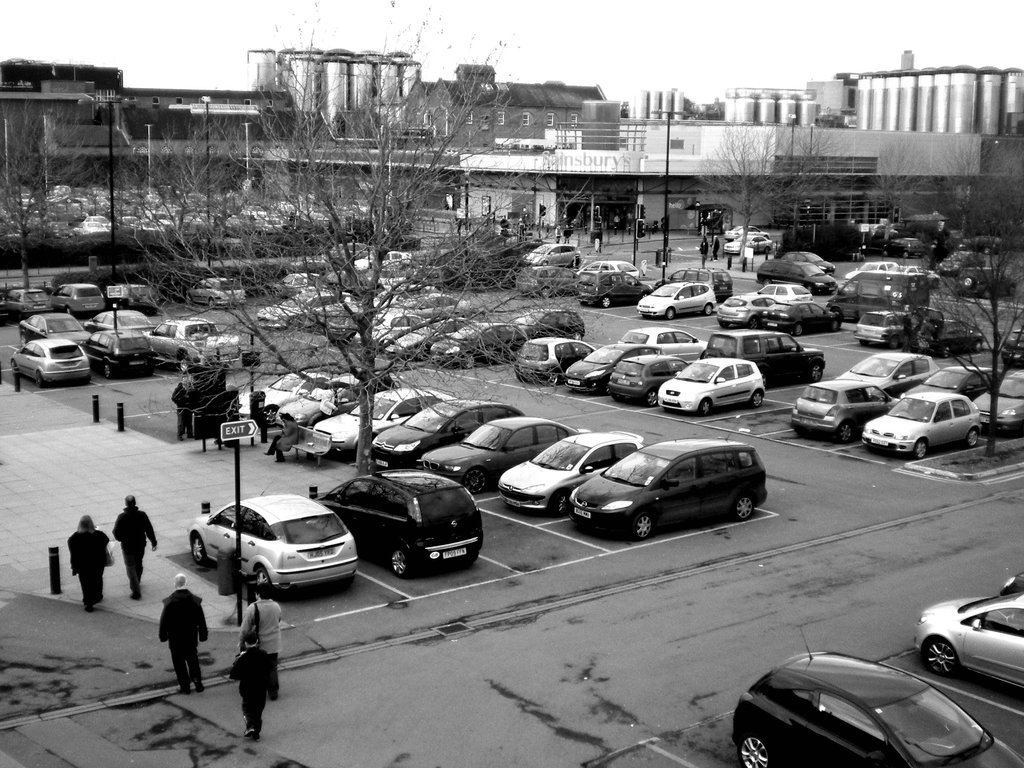Car: (234, 363, 636, 516), (722, 640, 1023, 767), (791, 351, 1023, 461), (571, 441, 768, 541), (314, 467, 480, 580), (193, 495, 362, 593), (911, 588, 1023, 689), (706, 329, 818, 389), (645, 352, 768, 405), (87, 329, 167, 385), (752, 253, 838, 302), (607, 357, 686, 409), (567, 341, 644, 392), (8, 338, 85, 385), (167, 318, 229, 374), (848, 302, 920, 349), (908, 312, 984, 356), (519, 338, 591, 384), (636, 277, 716, 317), (587, 271, 652, 316), (624, 326, 706, 358), (762, 297, 841, 328), (101, 277, 160, 315), (710, 292, 782, 322), (49, 282, 110, 316), (184, 277, 247, 306), (659, 266, 725, 292), (775, 251, 832, 279), (519, 246, 583, 269), (1, 283, 44, 315), (997, 328, 1023, 368), (763, 282, 810, 303), (579, 262, 636, 277)
